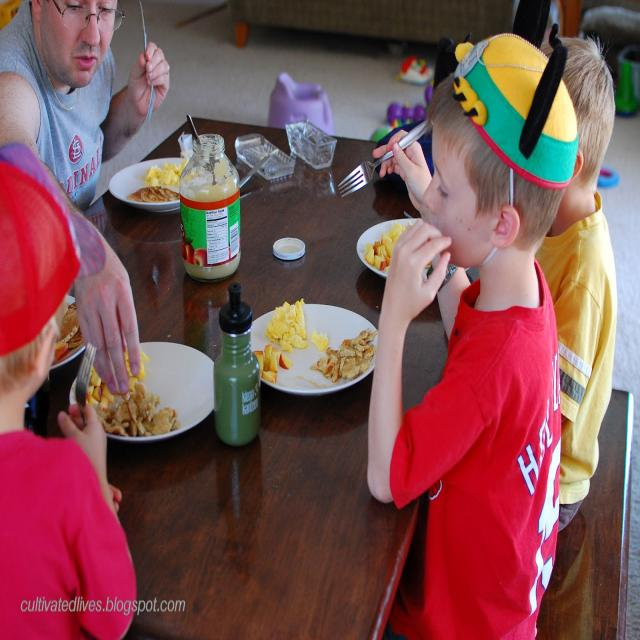body: (363, 31, 588, 618), (364, 29, 580, 640), (0, 0, 172, 400), (0, 159, 138, 640)
